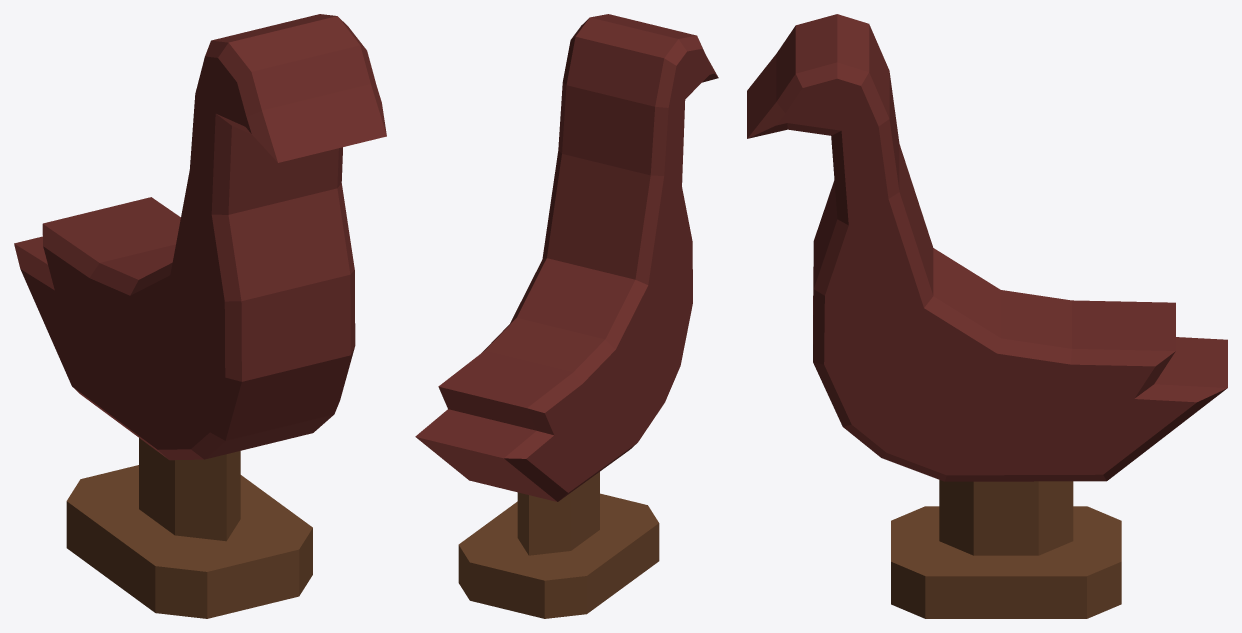
File: Goose_dummy.fbx
3 renders of one model, left to right at view 1: azimuth 30°, elevation 25°; view 2: azimuth 150°, elevation 25°; view 3: azimuth 270°, elevation 25°, orthographic. The views are drawn at different scales.
Parts seen in each view (by area): view 1: Cube.001; view 2: Cube.001; view 3: Cube.001.
Boxes of the visible parts, x1,y1,x2,y2 form: Cube.001: [14, 14, 386, 618]; Cube.001: [415, 14, 718, 618]; Cube.001: [747, 14, 1227, 618].
Size of the model in its own units: 46.81 by 170 by 136.
